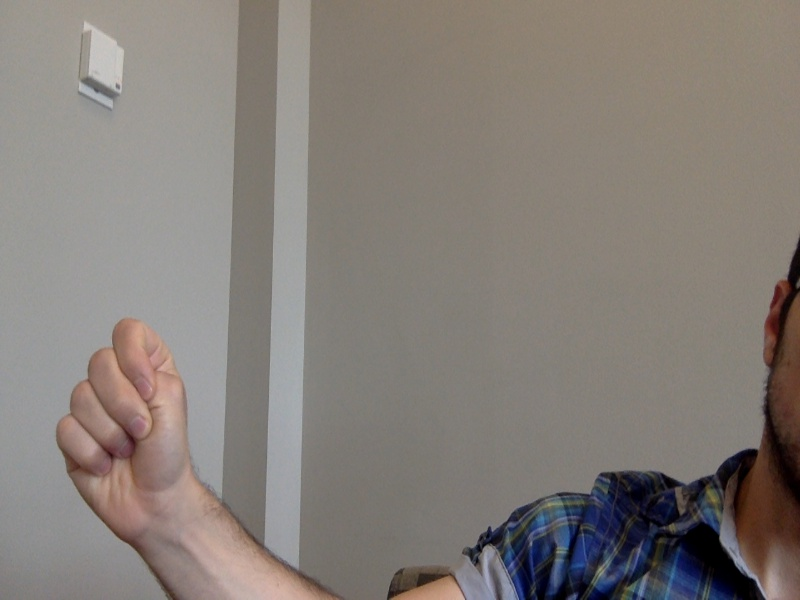0-hand: (56, 317, 203, 551)
